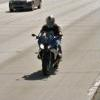Motorcycle: (27, 19, 68, 77)
